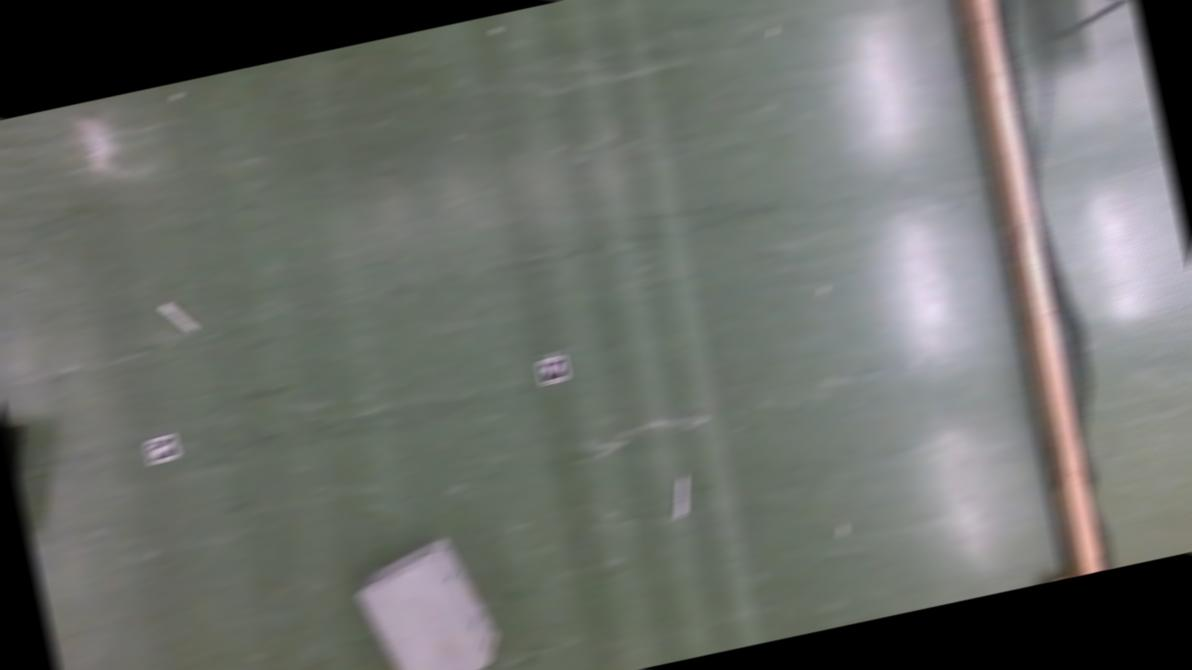probes: (158, 296, 198, 337), (668, 473, 694, 518)
rako: (343, 528, 510, 670)
